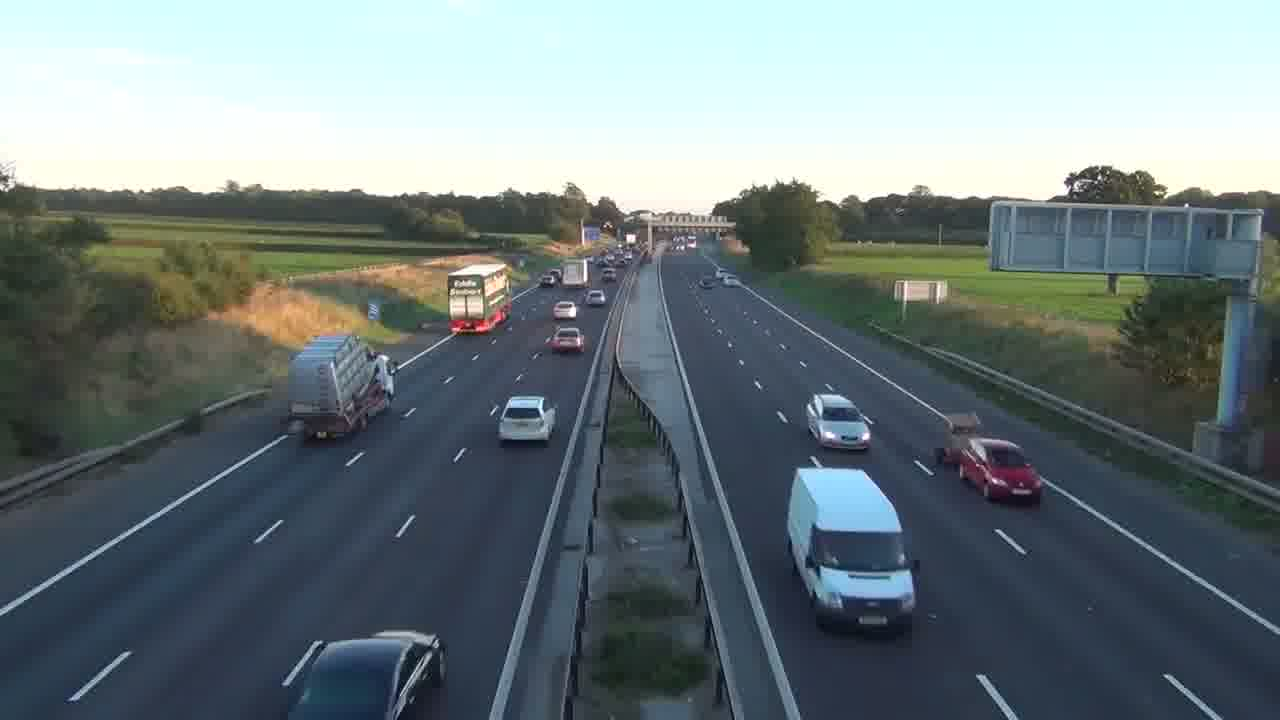car: (281, 628, 450, 718), (958, 436, 1043, 505), (805, 393, 873, 451), (497, 393, 558, 443), (585, 288, 606, 307)
truck: (785, 464, 919, 635), (287, 333, 392, 442)
